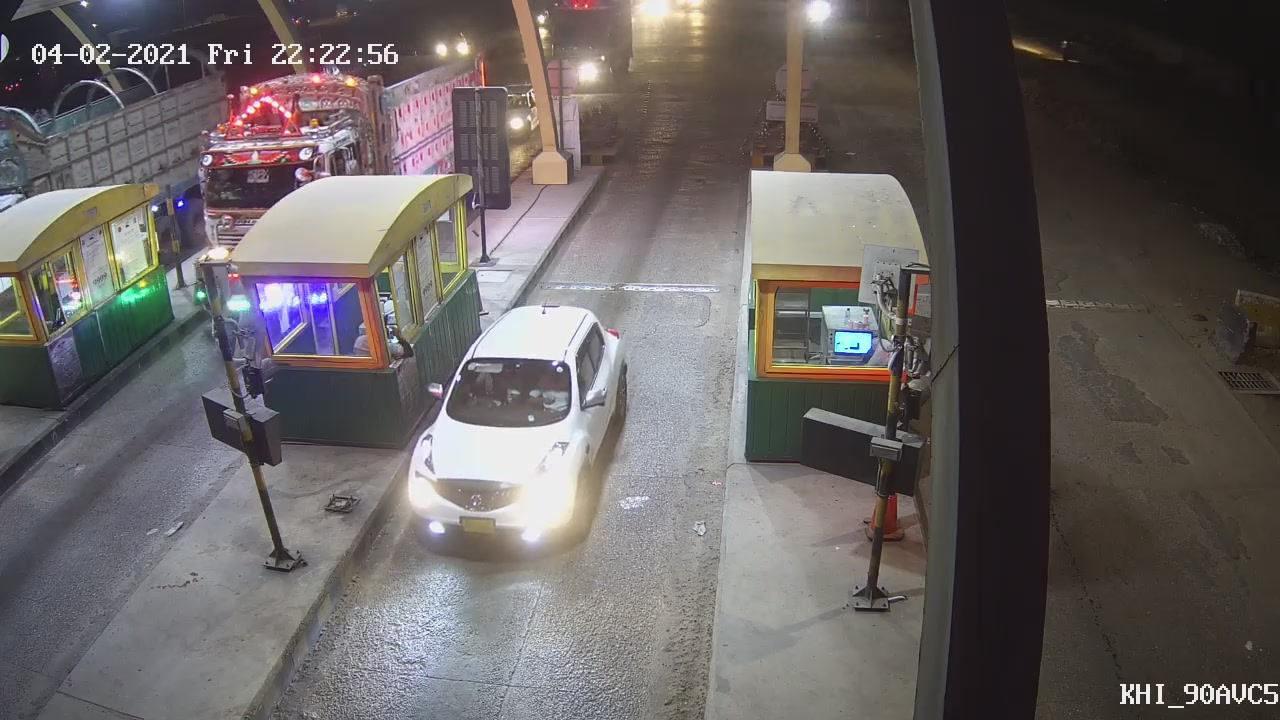F1: (410, 297, 632, 556)
